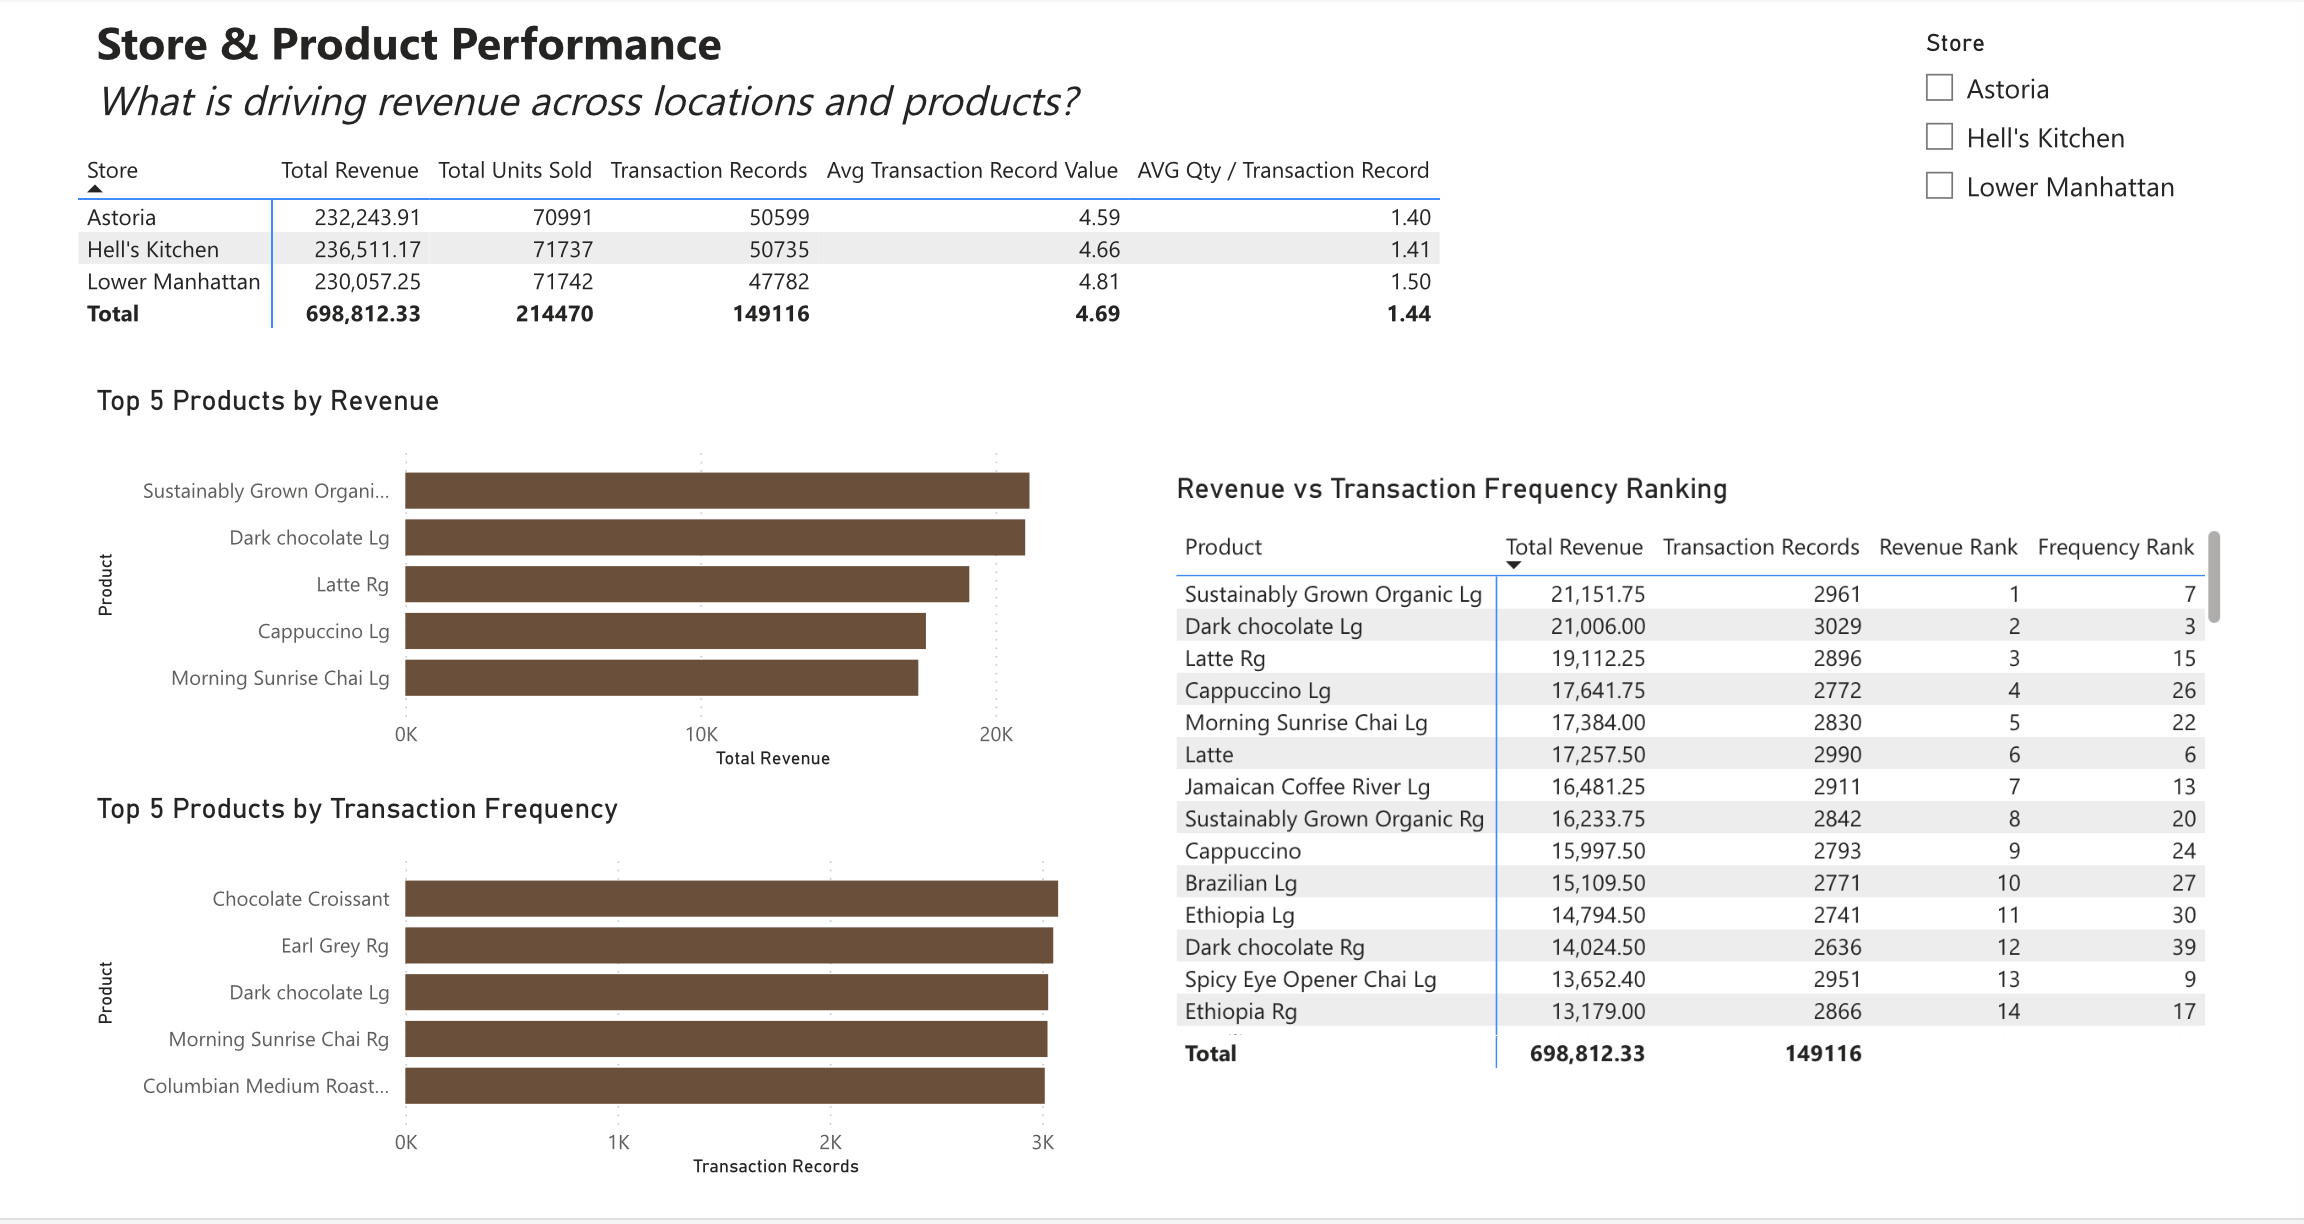

What the dashboard file says about the page in this screenshot:
{"tool":"powerbi","page":{"name":"Store & Product Performance","canvas":[1280,720],"ordinal":1},"visuals":[{"type":"textbox","box":[10.5,0,639.3,124.5],"z":0},{"type":"pivotTable","fields":{"Rows":["coffee-shop-sales-revenue.store_location"],"Values":["coffee-shop-sales-revenue.Total Revenue","coffee-shop-sales-revenue.Total Units Sold","coffee-shop-sales-revenue.Transaction Records","coffee-shop-sales-revenue.AVG Transaction Value","coffee-shop-sales-revenue.AVG Qty Product per Transaction Record"]},"box":[0,84.2,824,144.8],"z":1000},{"type":"clusteredBarChart","title":"Top 5 Products by Revenue","fields":{"Category":["coffee-shop-sales-revenue.product_detail"],"Y":["coffee-shop-sales-revenue.Total Revenue"]},"box":[10.5,229,639.7,230.3],"z":2000},{"type":"slicer","fields":{"Values":["coffee-shop-sales-revenue.store_location"]},"box":[1085.9,13.2,183,140.8],"z":3000},{"type":"clusteredBarChart","title":"Top 5 Products by Transaction Frequency","fields":{"Category":["coffee-shop-sales-revenue.product_detail"],"Y":["coffee-shop-sales-revenue.Transaction Records"]},"box":[10.5,469.9,639.7,230.3],"z":4000},{"type":"pivotTable","title":"Revenue vs Transaction Frequency Ranking","fields":{"Rows":["coffee-shop-sales-revenue.product_detail"],"Values":["coffee-shop-sales-revenue.Total Revenue","coffee-shop-sales-revenue.Transaction Records","coffee-shop-sales-revenue.Revenue Rank","coffee-shop-sales-revenue.Frequence Rank"]},"box":[650.2,280.4,629.2,355.4],"z":5000}]}

Visuals, with their boxes on the page's 1280x720 design canvas (x1, y1, x2, y2). These are canvas units, not pixel positions in the 2304x1224 screenshot, which may show the page scaled, cropped or inside an application window:
textbox: box=[10, 0, 650, 124]
pivotTable - coffee-shop-sales-revenue.store_location x coffee-shop-sales-revenue.Total Revenue: box=[0, 84, 824, 229]
"Top 5 Products by Revenue" clusteredBarChart: box=[10, 229, 650, 459]
slicer - coffee-shop-sales-revenue.store_location: box=[1086, 13, 1269, 154]
"Top 5 Products by Transaction Frequency" clusteredBarChart: box=[10, 470, 650, 700]
"Revenue vs Transaction Frequency Ranking" pivotTable: box=[650, 280, 1279, 636]
